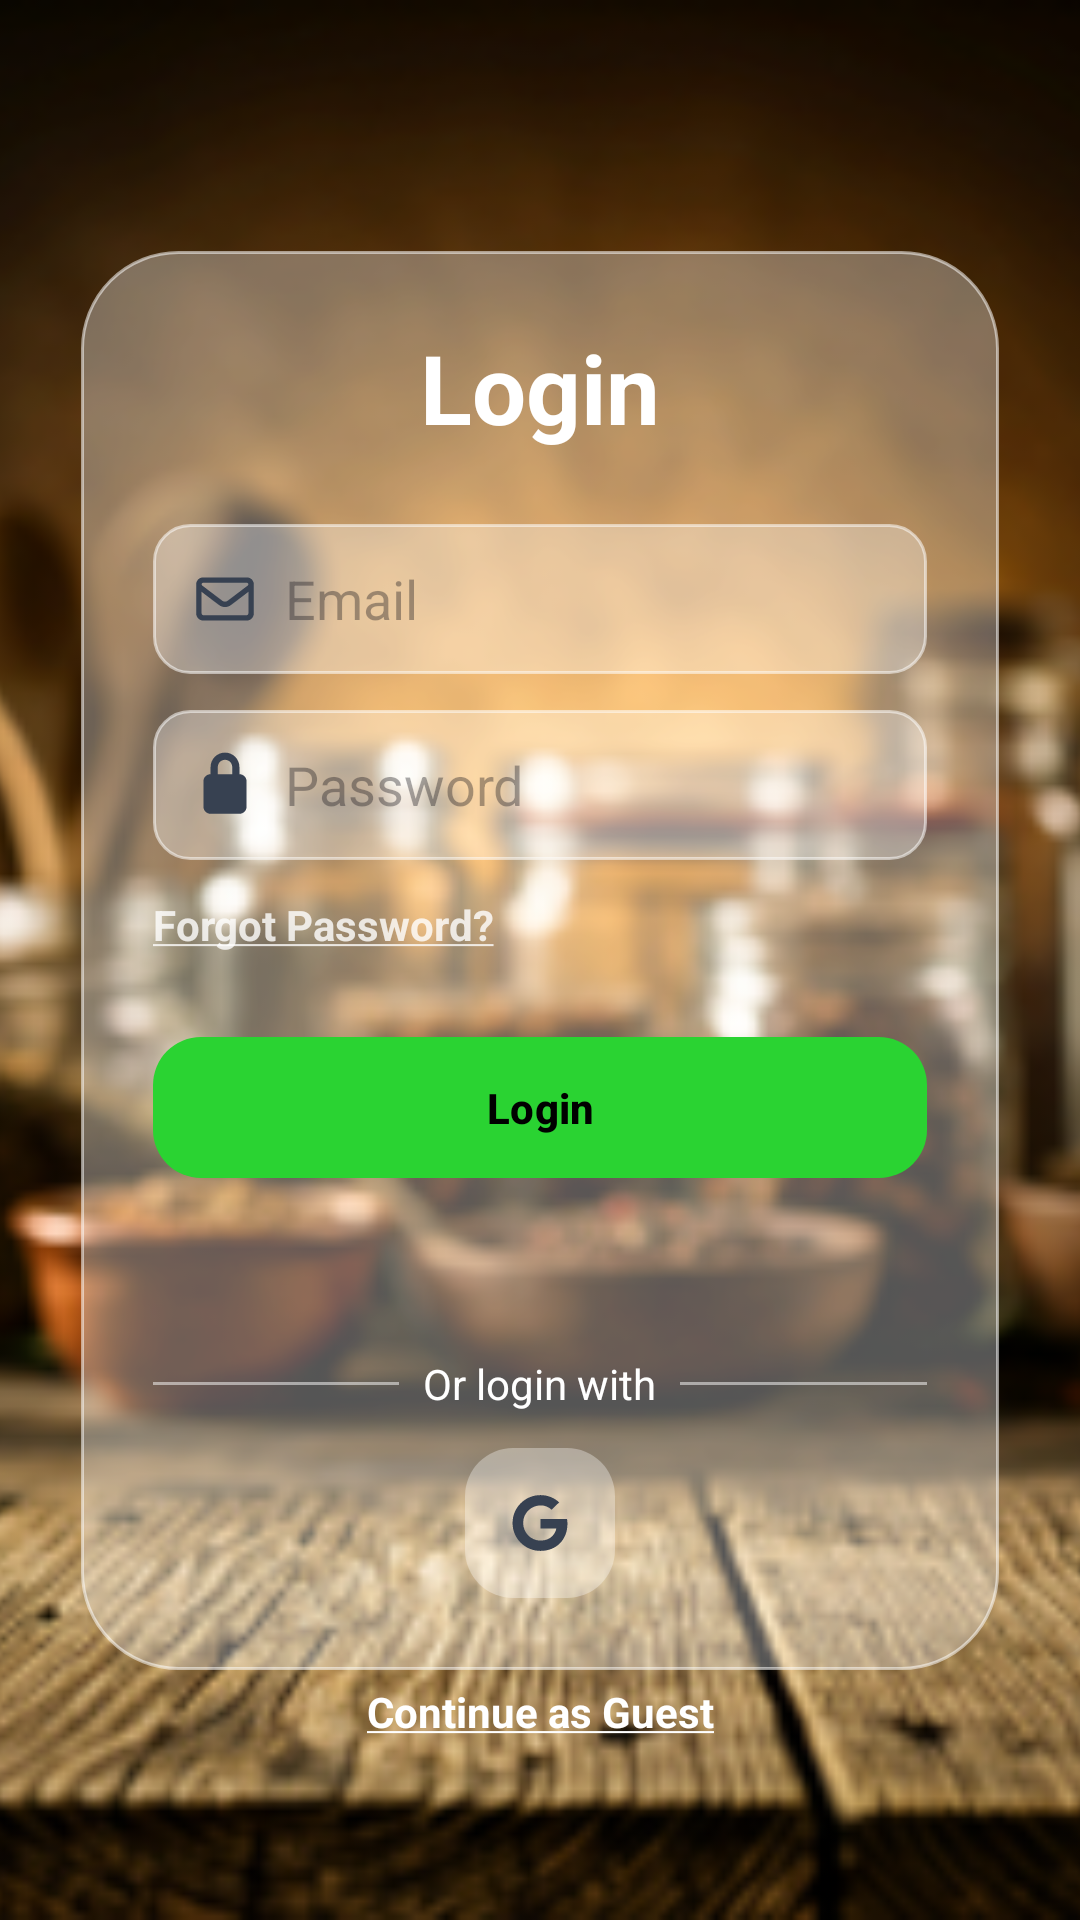

Named icons in this screenshot (1080px×1920px) and their centers, (x=x, y=y):
lock: (x=225, y=785)
